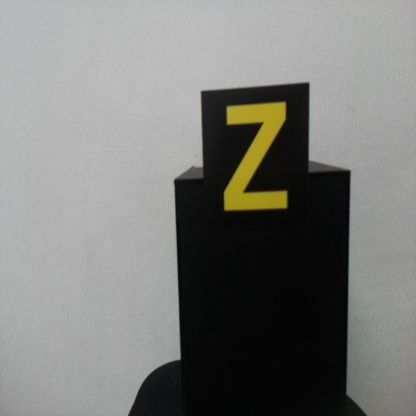id_15: (201, 91, 310, 224)
